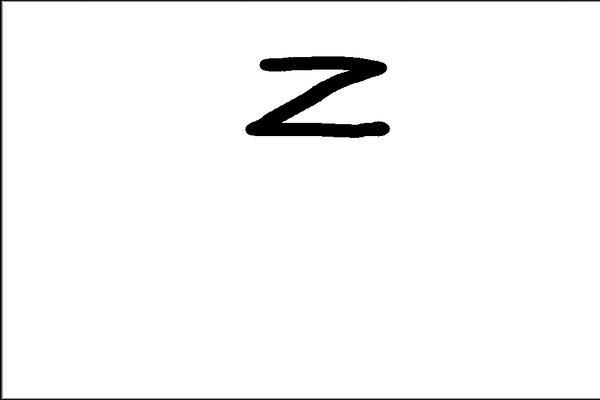Z: (242, 47, 397, 156)
